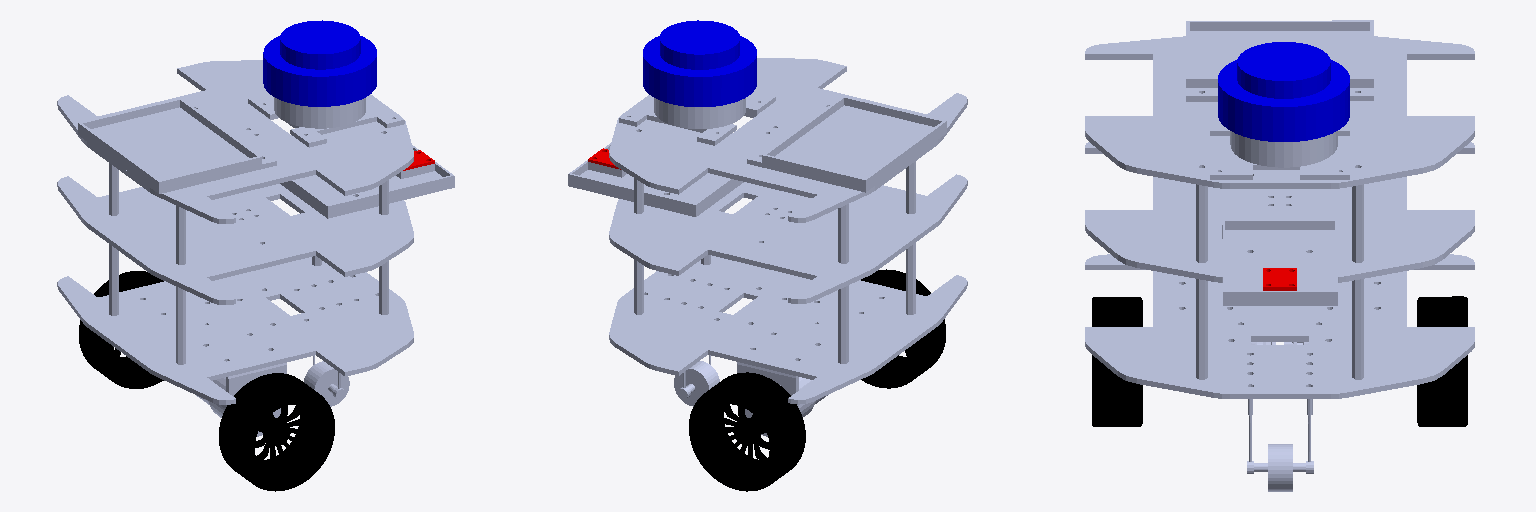
The robot description file, URDF, robot "wheel_chair_robot":
<?xml version="1.0" encoding="utf-8"?>
<!-- This URDF was automatically created by SolidWorks to URDF Exporter! Originally created by [author] ([email redacted]) 
     Commit Version: 1.6.0-1-g15f4949  Build Version: 1.6.7594.29634
     For more information, please see http://wiki.ros.org/sw_urdf_exporter -->
<robot
  name="wheel_chair_robot">
 
 <link name="base_footprint"/>

  <joint name="base_joint" type="fixed">
    <parent link="base_footprint"/>
    <child link="base_link"/>
    <origin xyz="0.0 0.0 0" rpy="0 0 -1.57"/>
  </joint>


  <link
    name="base_link">
    <inertial>
      <origin
        xyz="-0.000183927413758976 0.122740439529099 -0.0288849781882509"
        rpy="0 0 0" />
      <mass
        value="0.471290238762329" />
      <inertia
        ixx="0.000718160491232769"
        ixy="6.15110268509589E-10"
        ixz="-1.16572820178585E-08"
        iyy="0.00133061138183249"
        iyz="1.38556065851486E-07"
        izz="0.000639912786707179" />
    </inertial>
    <visual>
      <origin
        xyz="0 0 0"
        rpy="0 0 0" />
      <geometry>
        <mesh
          filename="package://wheel_chair_robot/meshes/base_link.STL" />
      </geometry>
      <material
        name="">
        <color
          rgba="0.792156862745098 0.819607843137255 0.933333333333333 1" />
      </material>
    </visual>
    <collision>
      <origin
        xyz="0 0 0"
        rpy="0 0 0" />
      <geometry>
        <mesh
          filename="package://wheel_chair_robot/meshes/base_link.STL" />
      </geometry>
    </collision>
  </link>
  <link
    name="imu_base">
    <inertial>
      <origin
        xyz="-9.3585E-18 0 0.000865"
        rpy="0 0 0" />
      <mass
        value="0.00066052" />
      <inertia
        ixx="2.8402E-08"
        ixy="2.7263E-24"
        ixz="5.1782E-25"
        iyy="1.6689E-08"
        iyz="-1.0538E-25"
        izz="4.4761E-08" />
    </inertial>
    <visual>
      <origin
        xyz="0 0 0"
        rpy="0 0 0" />
      <geometry>
        <mesh
          filename="package://wheel_chair_robot/meshes/imu_link.STL" />
      </geometry>
      <material
        name="">
        <color
          rgba="1 0 0 1" />
      </material>
    </visual>
    <collision>
      <origin
        xyz="0 0 0"
        rpy="0 0 0" />
      <geometry>
        <mesh
          filename="package://wheel_chair_robot/meshes/imu_link.STL" />
      </geometry>
    </collision>
  </link>
  <joint
    name="imu_joint"
    type="fixed">
    <origin
      xyz="0 0.14042 0.14476"
      rpy="0 0 0" />
    <parent
      link="base_link" />
    <child
      link="imu_base" />
    <axis
      xyz="0 0 0" />
  </joint>
  <link
    name="lidar_link">
    <inertial>
      <origin
        xyz="-8.6736E-19 -1.3878E-17 0.016956"
        rpy="0 0 0" />
      <mass
        value="0.090366" />
      <inertia
        ixx="2.9262E-05"
        ixy="-1.8079E-37"
        ixz="-2.7102E-21"
        iyy="2.9262E-05"
        iyz="3.4542E-21"
        izz="4.6984E-05" />
    </inertial>
    <visual>
      <origin
        xyz="0 0 0"
        rpy="0 0 0" />
      <geometry>
        <mesh
          filename="package://wheel_chair_robot/meshes/lidar_link.STL" />
      </geometry>
      <material
        name="">
        <color
          rgba="0 0 1 1" />
      </material>
    </visual>
    <collision>
      <origin
        xyz="0 0 0"
        rpy="0 0 0" />
      <geometry>
        <mesh
          filename="package://wheel_chair_robot/meshes/lidar_link.STL" />
      </geometry>
    </collision>
  </link>
  <joint
    name="lidar_joint"
    type="fixed">
    <origin
      xyz="-0.002 0.079323 0.24026"
      rpy="0 3.14 1.57" />
    <parent
      link="base_link" />
    <child
      link="lidar_link" />
    <axis
      xyz="0 0 1" />
  </joint>
  <link
    name="caster_link">
    <inertial>
      <origin
        xyz="0 0 -9.22925050845154E-17"
        rpy="0 0 0" />
      <mass
        value="0.00573786372737865" />
      <inertia
        ixx="3.01346626020544E-07"
        ixy="-1.32348898008484E-23"
        ixz="-4.49868165120885E-24"
        iyy="3.01346626020544E-07"
        iyz="-1.35347653668217E-23"
        izz="4.48449911942938E-07" />
    </inertial>
    <visual>
      <origin
        xyz="0 0 0"
        rpy="0 0 0" />
      <geometry>
        <mesh
          filename="package://wheel_chair_robot/meshes/caster_link.STL" />
      </geometry>
      <material
        name="">
        <color
          rgba="0.792156862745098 0.819607843137255 0.933333333333333 1" />
      </material>
    </visual>
    <collision>
      <origin
        xyz="0 0 0"
        rpy="0 0 0" />
      <geometry>
        <mesh
          filename="package://wheel_chair_robot/meshes/caster_link.STL" />
      </geometry>
    </collision>
  </link>
  <joint
    name="caster_joint"
    type="fixed">
    <origin
      xyz="0 0.082473 0.01224"
      rpy="1.5708 -0.16099 1.5708" />
    <parent
      link="base_link" />
    <child
      link="caster_link" />
    <axis
      xyz="0 0 1" />
  </joint>
  <link
    name="wheel_R_link">
    <inertial>
      <origin
        xyz="-0.016617 -8.7964E-12 -7.3698E-07"
        rpy="0 0 0" />
      <mass
        value="0.053158" />
      <inertia
        ixx="4.0958E-05"
        ixy="3.054E-15"
        ixz="2.443E-10"
        iyy="2.3293E-05"
        iyz="5.1359E-16"
        izz="2.3293E-05" />
    </inertial>
    <visual>
      <origin
        xyz="0 0 0"
        rpy="0 0 0" />
      <geometry>
        <mesh
          filename="package://wheel_chair_robot/meshes/wheel_R_link.STL" />
      </geometry>
      <material
        name="">
        <color
          rgba="0 0 0 1" />
      </material>
    </visual>
    <collision>
      <origin
        xyz="0 0 0"
        rpy="0 0 0" />
      <geometry>
        <mesh
          filename="package://wheel_chair_robot/meshes/wheel_R_link.STL" />
      </geometry>
    </collision>
  </link>
  <joint
    name="wheel_R_joint"
    type="continuous">
    <origin
      xyz="0.0669 0 0.033497"
      rpy="1.5708 0 3.1416" />
    <parent
      link="base_link" />
    <child
      link="wheel_R_link" />
    <axis
      xyz="1 0 0" />
  </joint>
  <link
    name="wheel_L_link">
    <inertial>
      <origin
        xyz="0 0 0"
        rpy="0 0 0" />
      <mass
        value="0" />
      <inertia
        ixx="0"
        ixy="0"
        ixz="0"
        iyy="0"
        iyz="0"
        izz="0" />
    </inertial>
    <visual>
      <origin
        xyz="0 0 0"
        rpy="0 0 0" />
      <geometry>
        <mesh
          filename="package://wheel_chair_robot/meshes/wheel_L_link.STL" />
      </geometry>
      <material
        name="">
        <color
          rgba="0 0 0 1" />
      </material>
    </visual>
    <collision>
      <origin
        xyz="0 0 0"
        rpy="0 0 0" />
      <geometry>
        <mesh
          filename="package://wheel_chair_robot/meshes/wheel_L_link.STL" />
      </geometry>
    </collision>
  </link>
  <joint
    name="wheel_L_joint"
    type="continuous">
    <origin
      xyz="-0.0669000000000001 0 0.0334966062413412"
      rpy="0.57593551149876 0 0" />
    <parent
      link="base_link" />
    <child
      link="wheel_L_link" />
    <axis
      xyz="1 0 0" />
  </joint>
</robot>

--- Render facts (derived) ---
3 views of the same robot in one strip: view 1: azimuth 30°, elevation 25°; view 2: azimuth 150°, elevation 25°; view 3: azimuth 270°, elevation 25° (orthographic).
Model wheel_chair_robot with 7 links and 6 joints (2 continuous, 4 fixed), rooted at base_footprint, posed every joint at zero.
Links seen in each view (by area): view 1: base_link, wheel_R_link, lidar_link, wheel_L_link, caster_link; view 2: base_link, wheel_L_link, lidar_link, wheel_R_link, caster_link; view 3: base_link, lidar_link, wheel_L_link, wheel_R_link, caster_link, imu_base.
Link boxes in pixels (x1,y1,x2,y2): base_link: [57, 60, 454, 436]; wheel_R_link: [219, 373, 334, 491]; lidar_link: [263, 20, 376, 106]; wheel_L_link: [79, 271, 163, 388]; caster_link: [304, 361, 349, 406]; base_link: [568, 58, 967, 436]; wheel_L_link: [689, 372, 805, 491]; lidar_link: [643, 20, 756, 106]; wheel_R_link: [861, 269, 945, 388]; caster_link: [674, 361, 719, 406]; base_link: [1085, 20, 1474, 473]; lidar_link: [1218, 42, 1349, 141]; wheel_L_link: [1417, 296, 1467, 426]; wheel_R_link: [1092, 297, 1142, 426]; caster_link: [1268, 444, 1292, 491]; imu_base: [1263, 268, 1296, 290].
Bounding box of the posed robot: 0.2145 × 0.2001 × 0.2403 m (x, y, z).
6 mesh visuals loaded from 6 distinct referenced files (6 binary STL).
